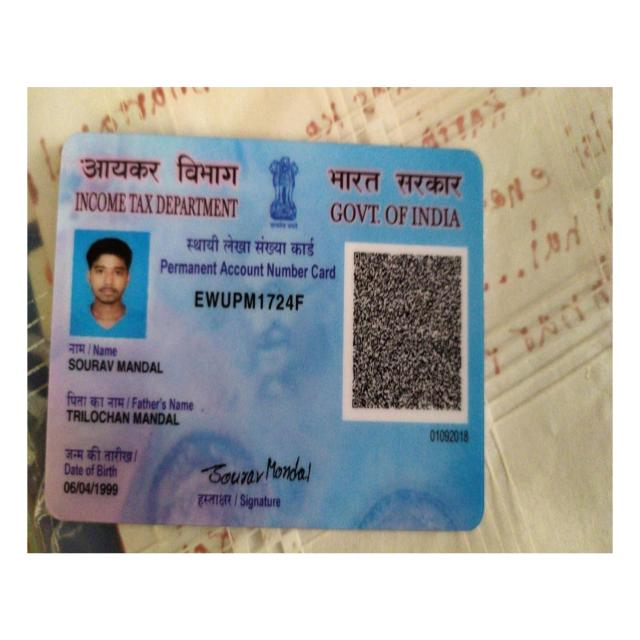pan_card: (51, 137, 479, 523)
